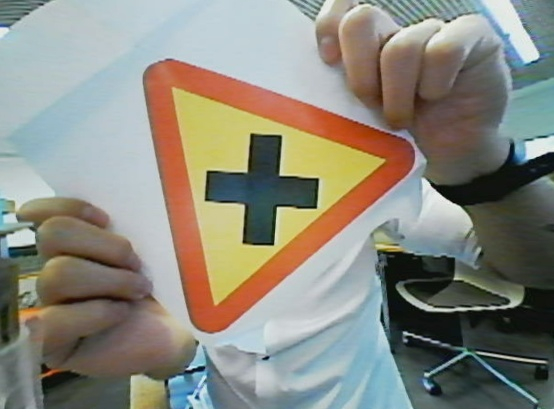junction: (134, 47, 430, 344)
